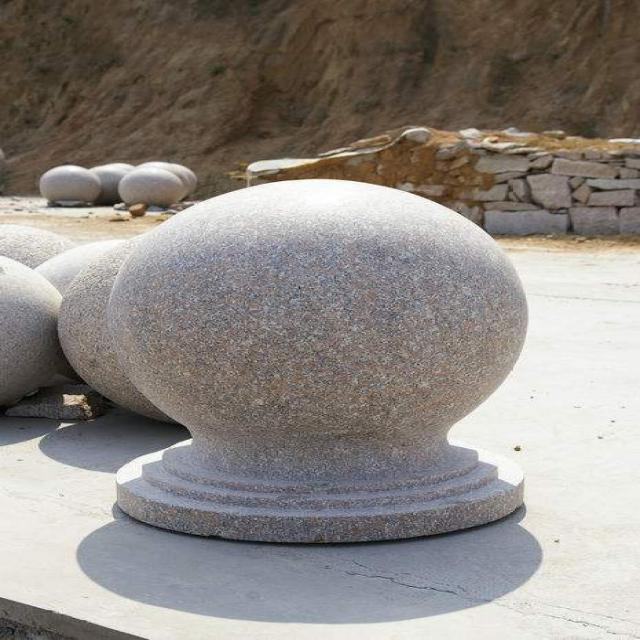spherical_roadblock: (106, 177, 534, 540), (113, 168, 183, 210), (37, 162, 101, 206)
